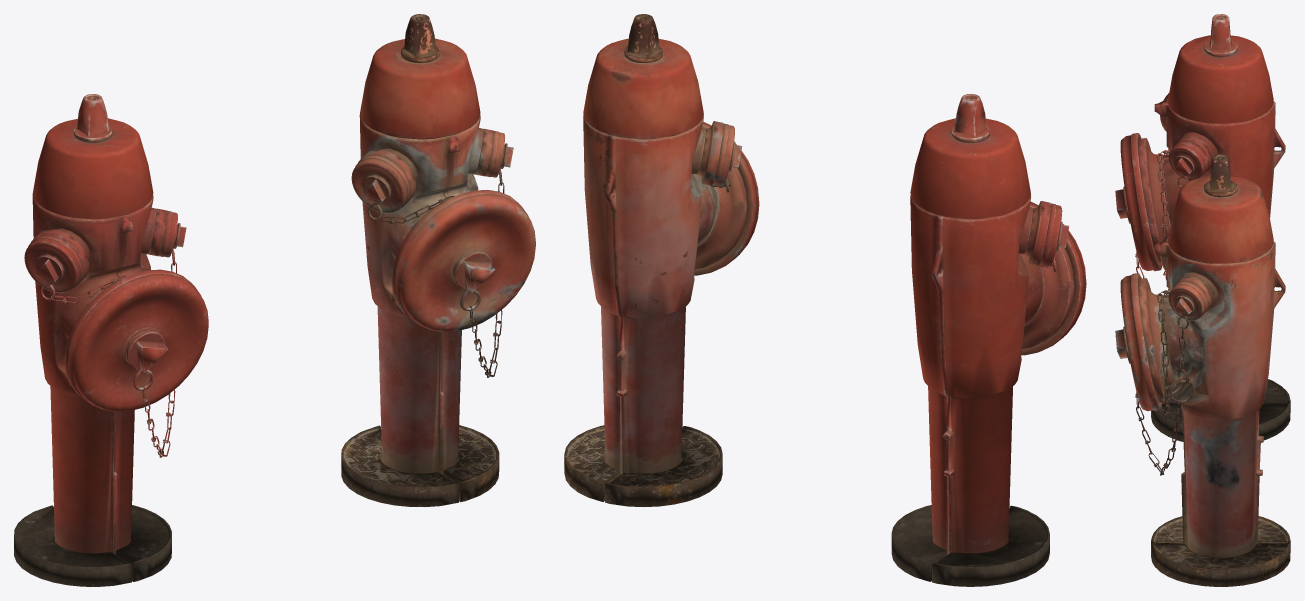
Rendered from fire_hydrant.glb.
3 views of the same model, side by side, from view 1: azimuth 30°, elevation 25°; view 2: azimuth 150°, elevation 25°; view 3: azimuth 270°, elevation 25° (orthographic). The views are drawn at different scales.
Parts seen in each view (by area): view 1: fire_hydrant, fire_hydrant_aged, fire_hydrant_cap_01, fire_hydrant_cap_01_aged, fire_hydrant_cap_03, fire_hydrant_cap_03_aged, fire_hydrant_chain, fire_hydrant_chain_aged, fire_hydrant_cap_02, fire_hydrant_cap_02_aged; view 2: fire_hydrant, fire_hydrant_aged, fire_hydrant_cap_01, fire_hydrant_cap_01_aged, fire_hydrant_cap_03, fire_hydrant_cap_03_aged; view 3: fire_hydrant_aged, fire_hydrant, fire_hydrant_cap_01, fire_hydrant_cap_01_aged, fire_hydrant_chain_aged, fire_hydrant_cap_02_aged, fire_hydrant_cap_02, fire_hydrant_chain.
Part boxes in pixels (x1,y1,x2,y2): fire_hydrant: (14,94,171,586); fire_hydrant_aged: (341,14,499,506); fire_hydrant_cap_01: (64,269,208,411); fire_hydrant_cap_01_aged: (391,190,535,331); fire_hydrant_cap_03: (24,235,83,293); fire_hydrant_cap_03_aged: (351,155,410,213); fire_hydrant_chain: (40,224,177,457); fire_hydrant_chain_aged: (367,145,504,377); fire_hydrant_cap_02: (158,210,186,257); fire_hydrant_cap_02_aged: (485,131,513,177); fire_hydrant: (891,94,1074,586); fire_hydrant_aged: (564,14,747,507); fire_hydrant_cap_01: (1021,202,1086,355); fire_hydrant_cap_01_aged: (694,122,759,275); fire_hydrant_cap_03: (1039,203,1069,266); fire_hydrant_cap_03_aged: (712,123,741,186); fire_hydrant_aged: (1138,154,1290,586); fire_hydrant: (1138,14,1290,441); fire_hydrant_cap_01: (1115,133,1161,271); fire_hydrant_cap_01_aged: (1115,273,1161,411); fire_hydrant_chain_aged: (1135,289,1195,475); fire_hydrant_cap_02_aged: (1168,281,1208,320); fire_hydrant_cap_02: (1168,141,1208,180); fire_hydrant_chain: (1135,149,1193,280).
Bounding box in the file's own units: 0.8746 × 0.7994 × 0.3173.
2 materials, 2 textured.
